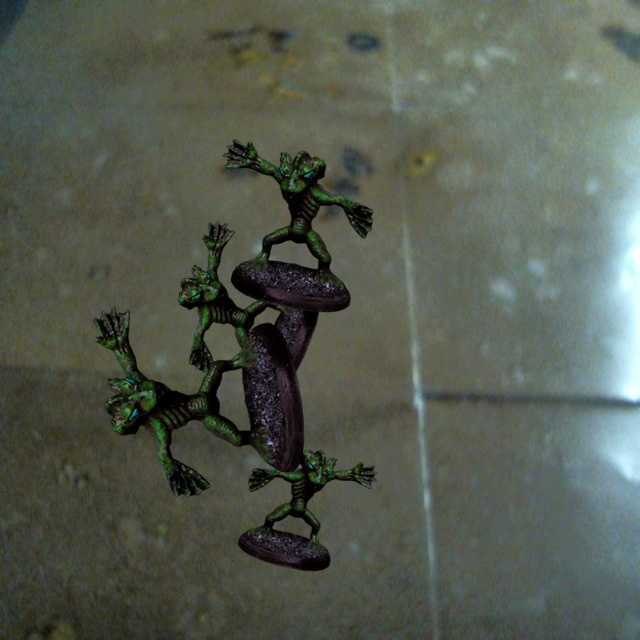pieza_juego: (93, 306, 303, 496), (222, 139, 373, 311), (177, 221, 318, 395), (238, 450, 376, 570)
